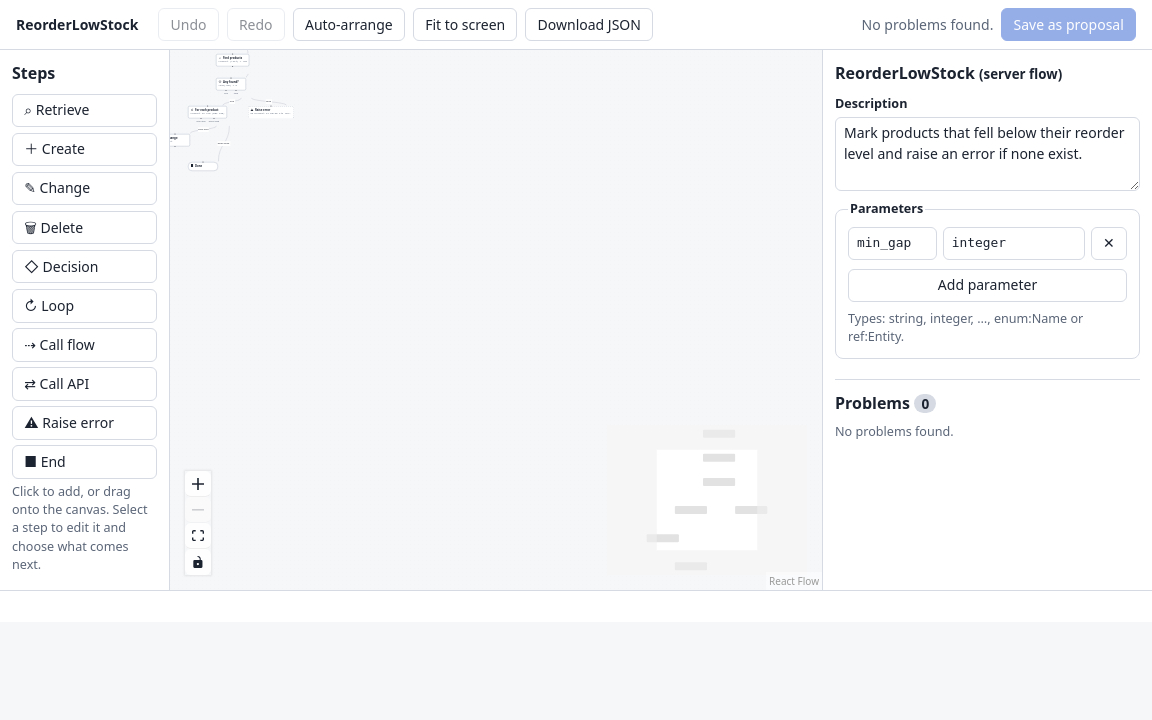
Test: FlowEditor › validates again after an edit, and saves the edited flow
The image size is (1152, 720).
Check: the 1st text "No problems found." is shown, box [862,15,993,35]
Check: the button "Save as proposal" is disabled, box [1001,8,1136,42]
Click the text "Any found?".
click(231, 85)  # box [216,78,246,91]
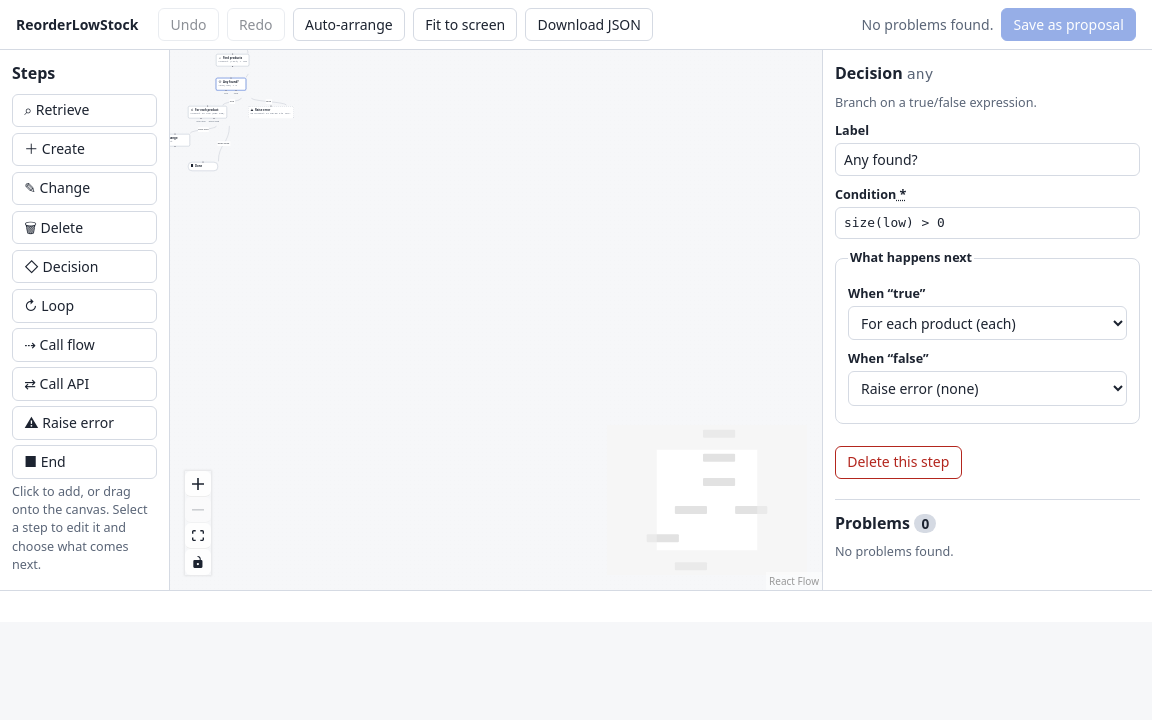
Replace the text in the field labelled "Condition *" with "size(low) > 1" at (988, 223), box [835,208,1140,239]
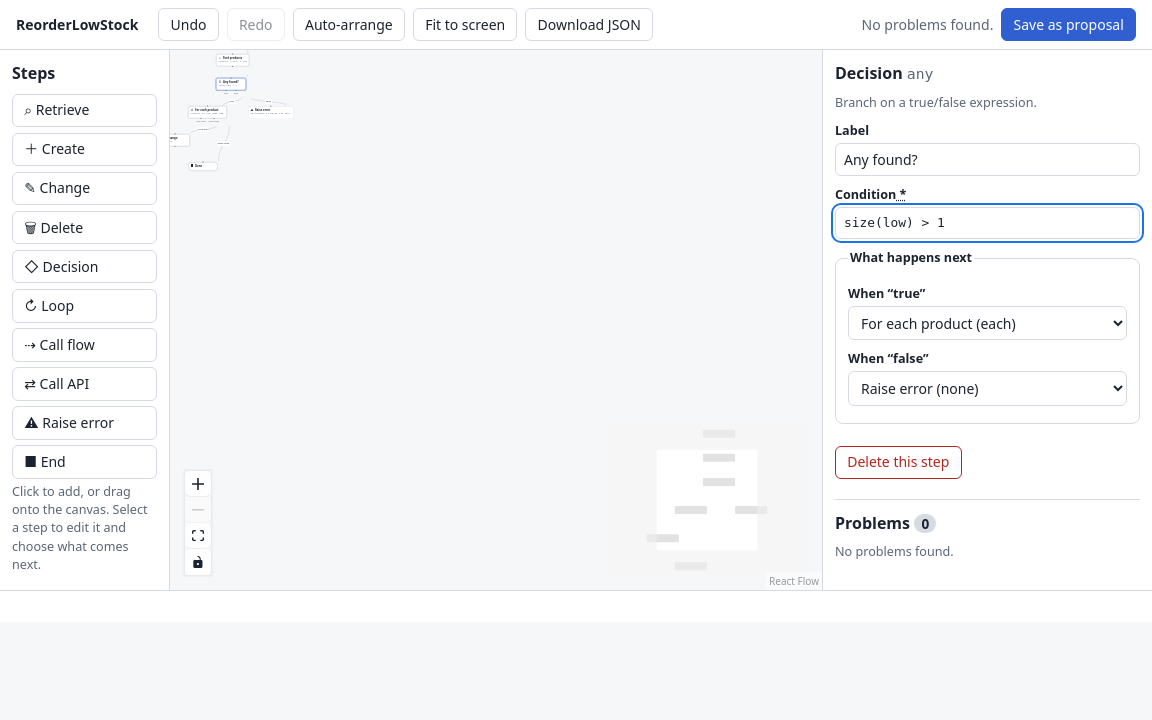
Check: the button "Save as proposal" is enabled
Click the button "Save as proposal".
click(1069, 25)  # box [1001,8,1136,42]
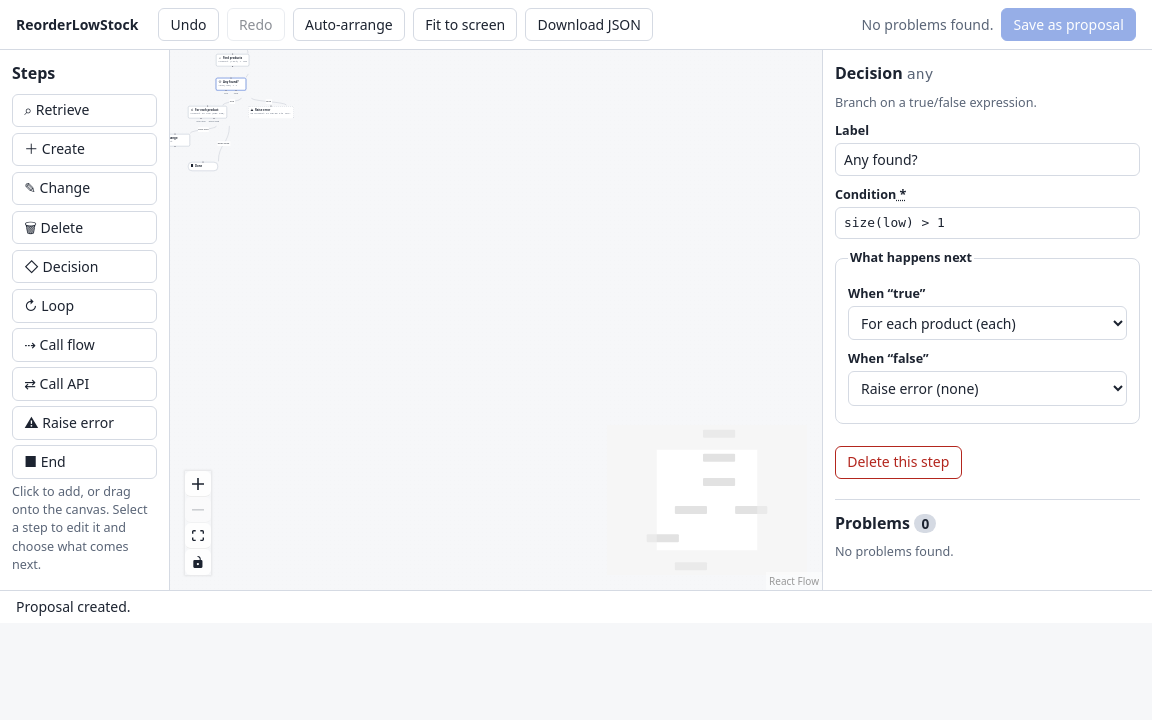
Check: the text "size(low) > 1" is shown, box [218,84,237,87]
Check: the message reads "Proposal created.", box [16,597,131,616]
Check: the button "Save as proposal" is disabled, box [1001,8,1136,42]
